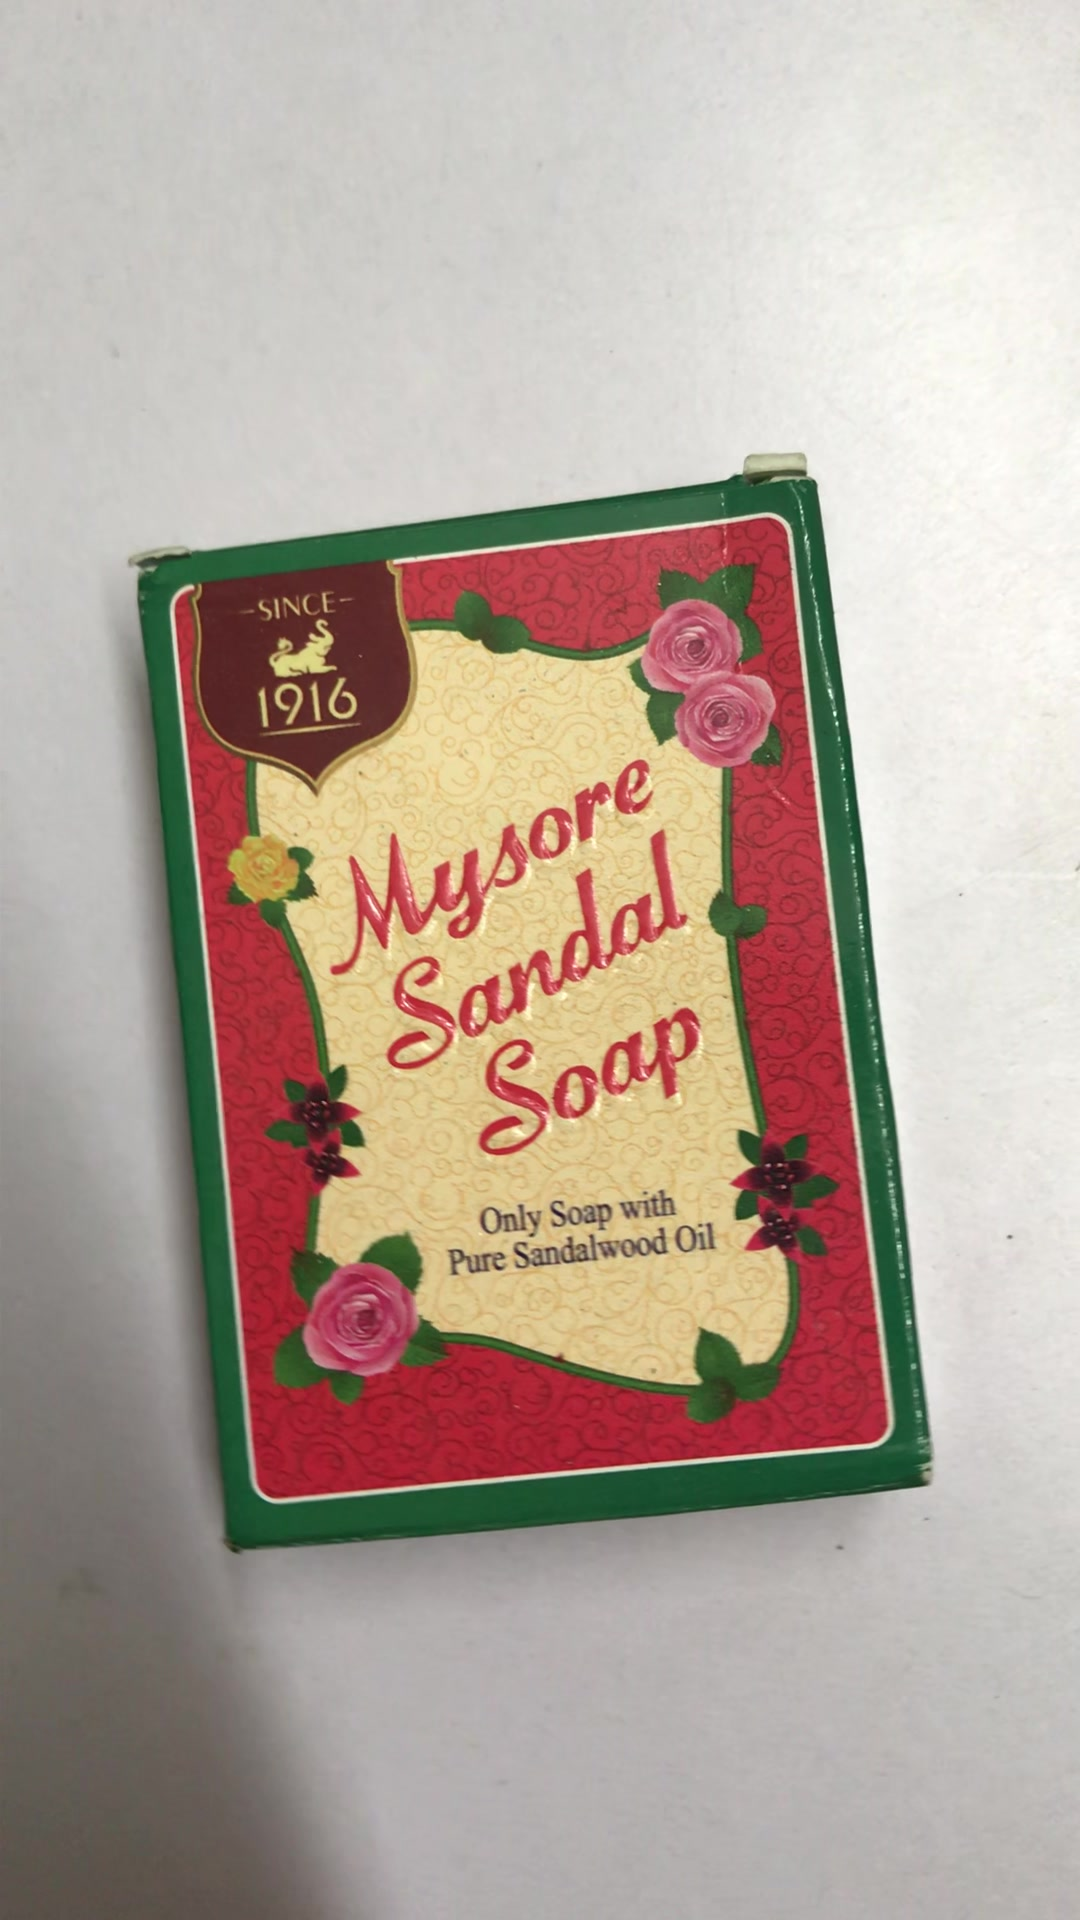mysore sandal soap: (132, 467, 932, 1552)
